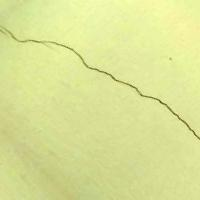crack: (1, 23, 199, 150)
